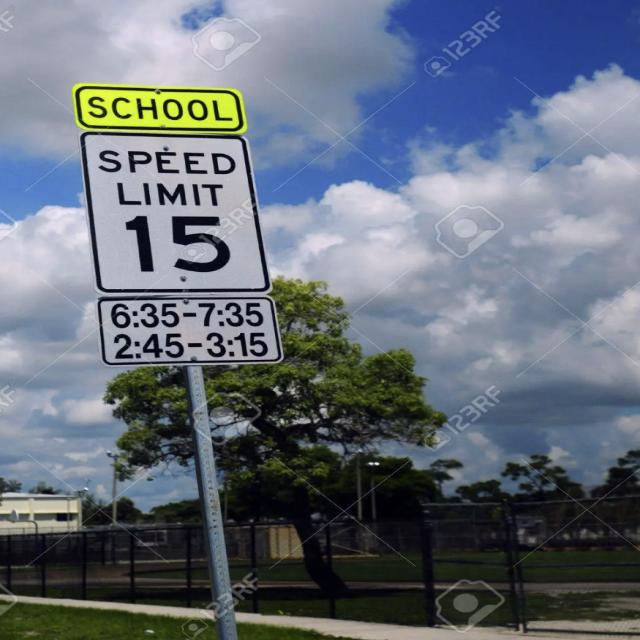speedLimit15: (85, 131, 265, 288)
